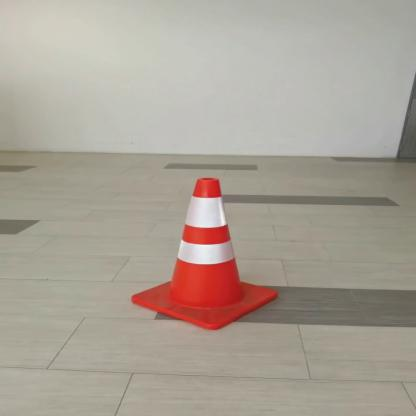cone: (123, 175, 283, 331)
